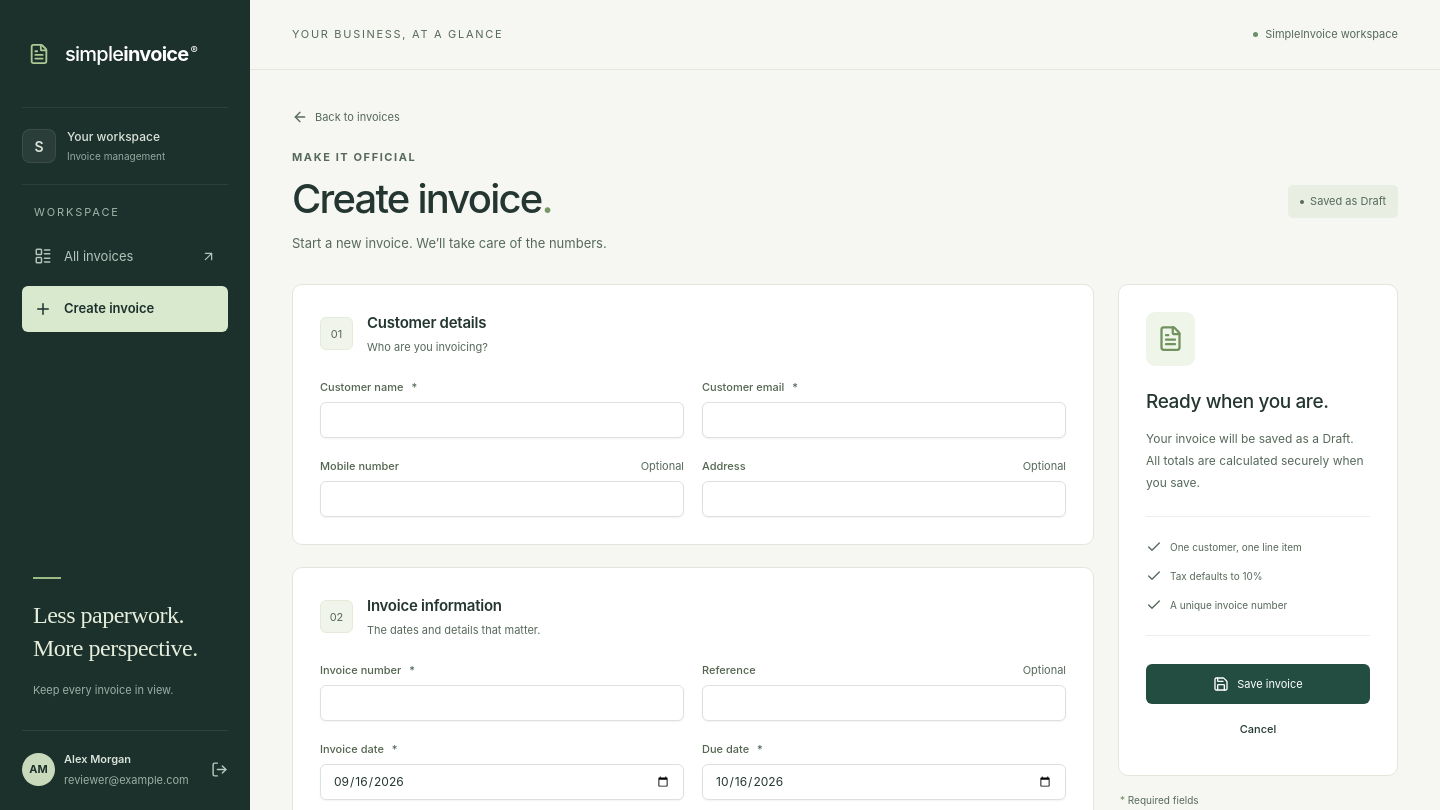
Test: Invoice creation and details › creates one item with numeric inputs and redirects on success
The width and height of the screenshot is (1440, 810).
Expected: the heading "Create invoice." is shown, [292,174,552,223]
Type "New Customer" into the field labelled "Customer name *". click: (502, 420)
box: [320,402,684,438]
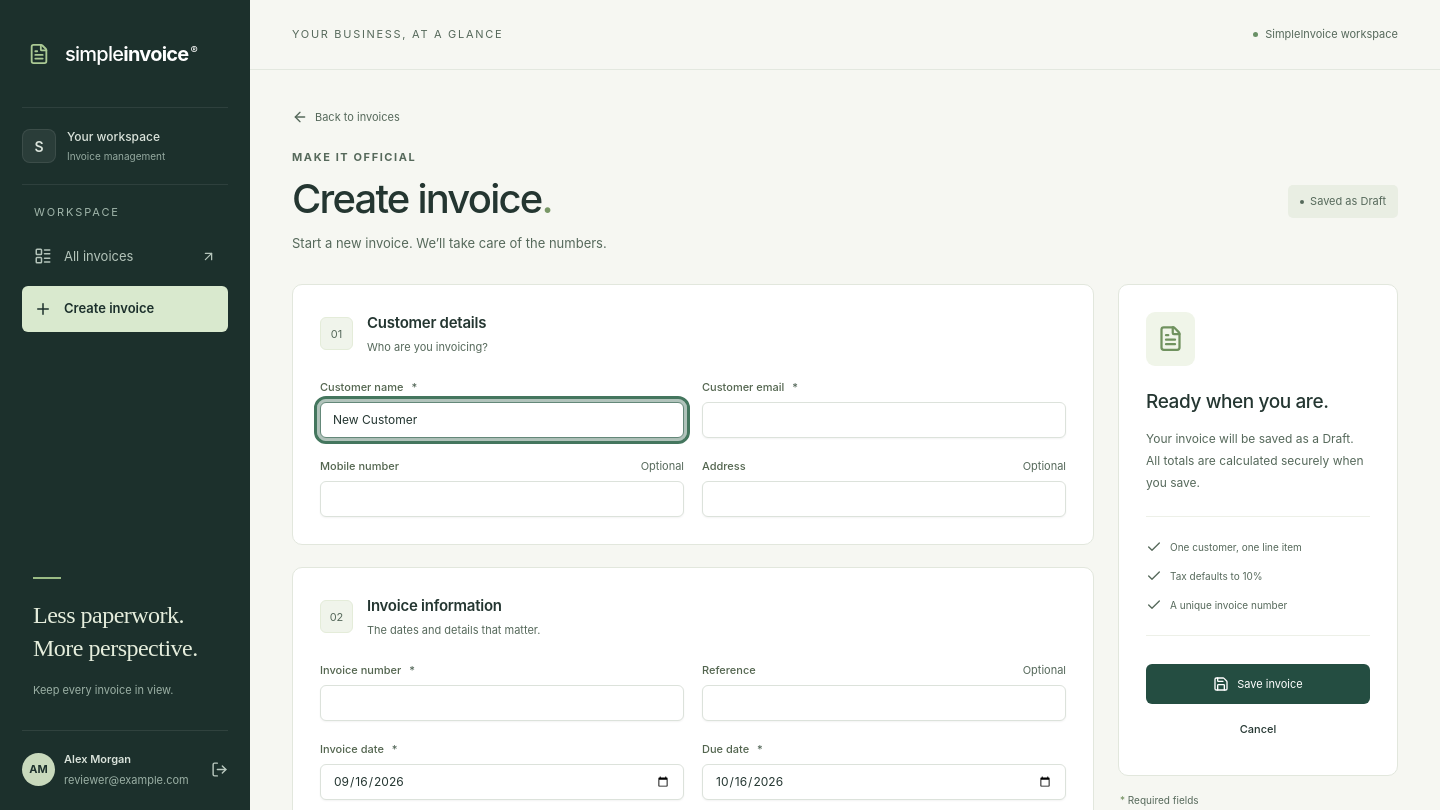
Type "new@example.com" into the field labelled "Customer email *". click: (884, 420)
box: [702,402,1066,438]
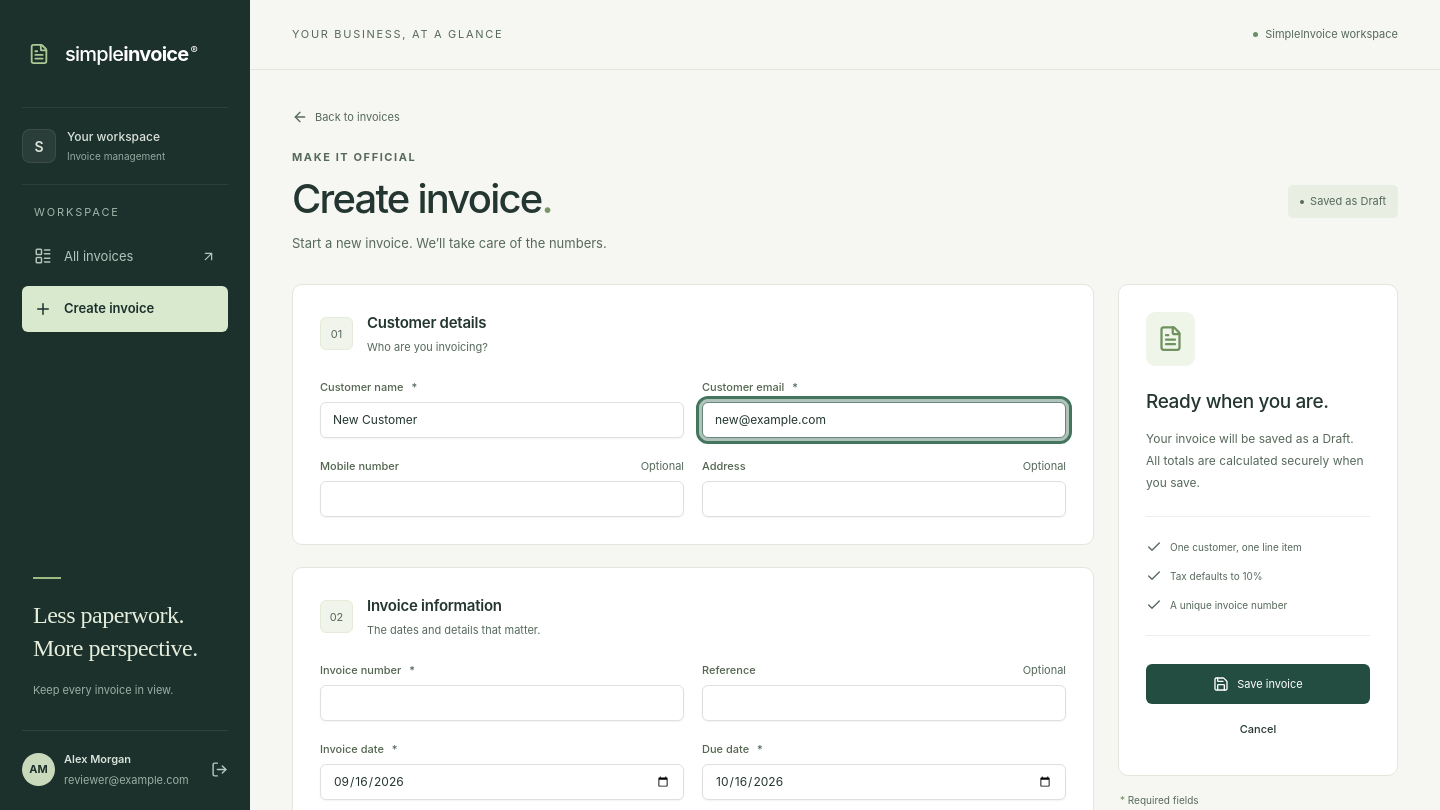
Type "NEW-001" into the field labelled "Invoice number *". click: (502, 703)
box: [320,685,684,721]
(page scrolled)
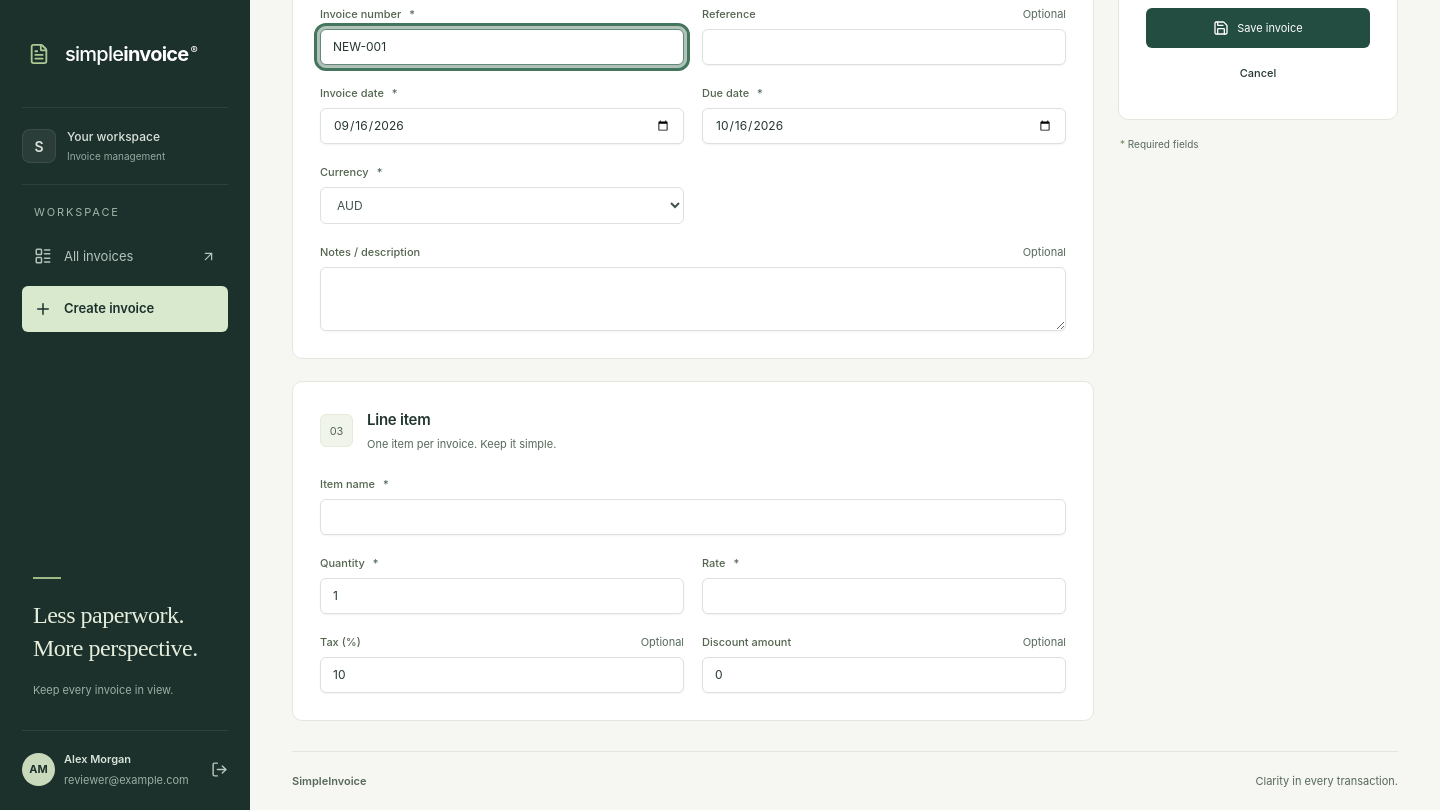
Type "Consulting" into the field labelled "Item name *". click: (693, 517)
box: [320,499,1066,535]
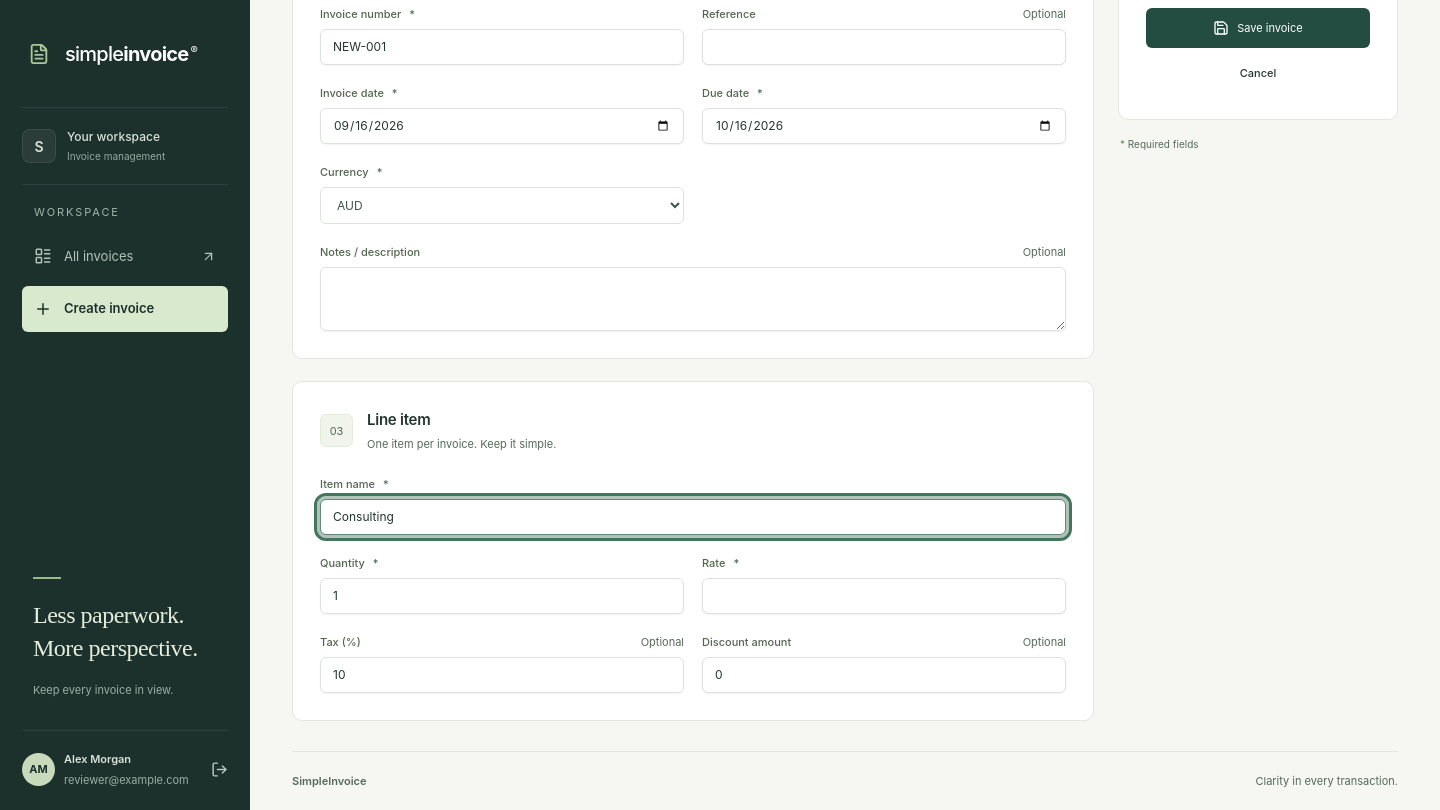
Type "100.25" into the number field labelled "Rate *". click: (884, 596)
box: [702,578,1066,614]
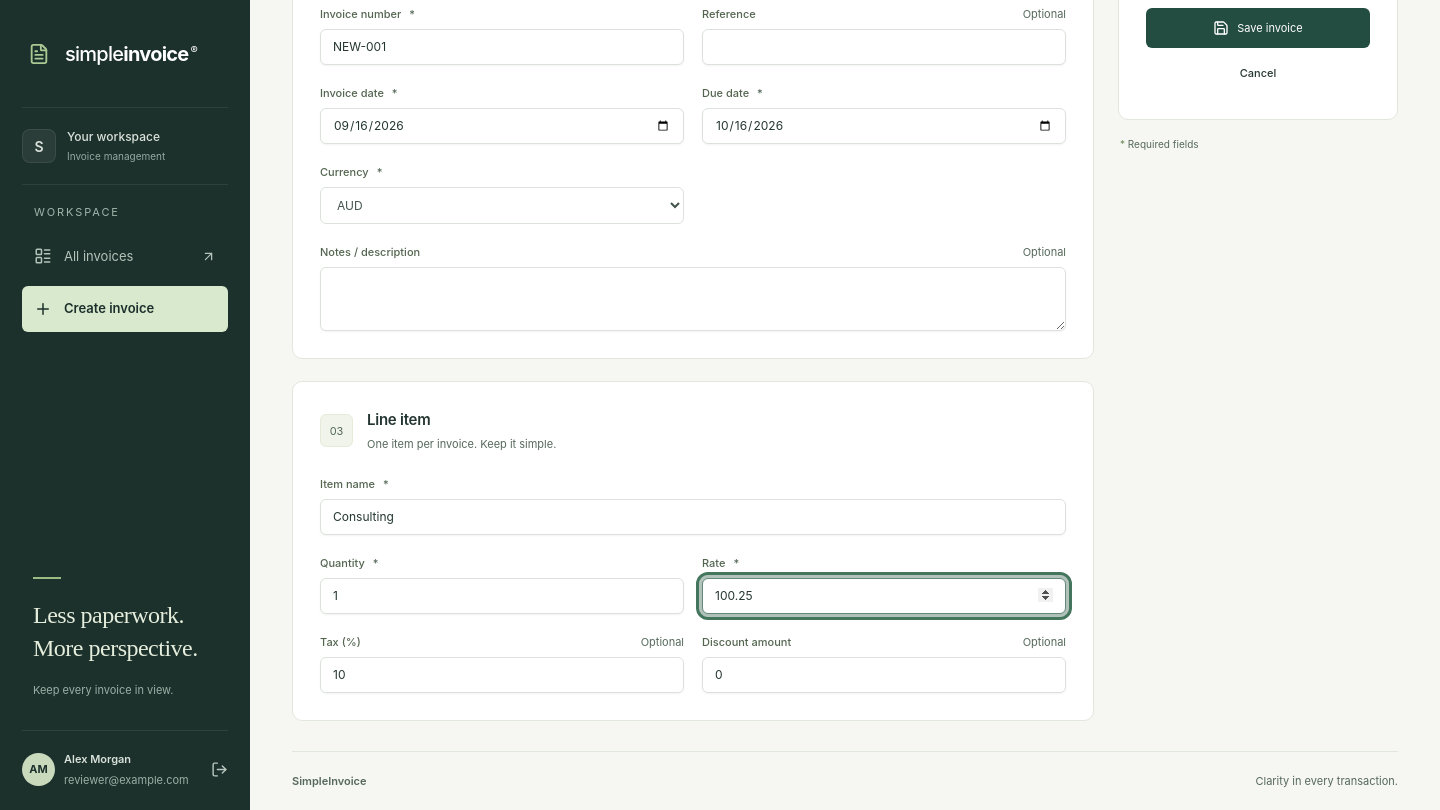
Click the button "Save invoice". click: (1258, 28)
box: [1146,8,1370,48]
(page scrolled)
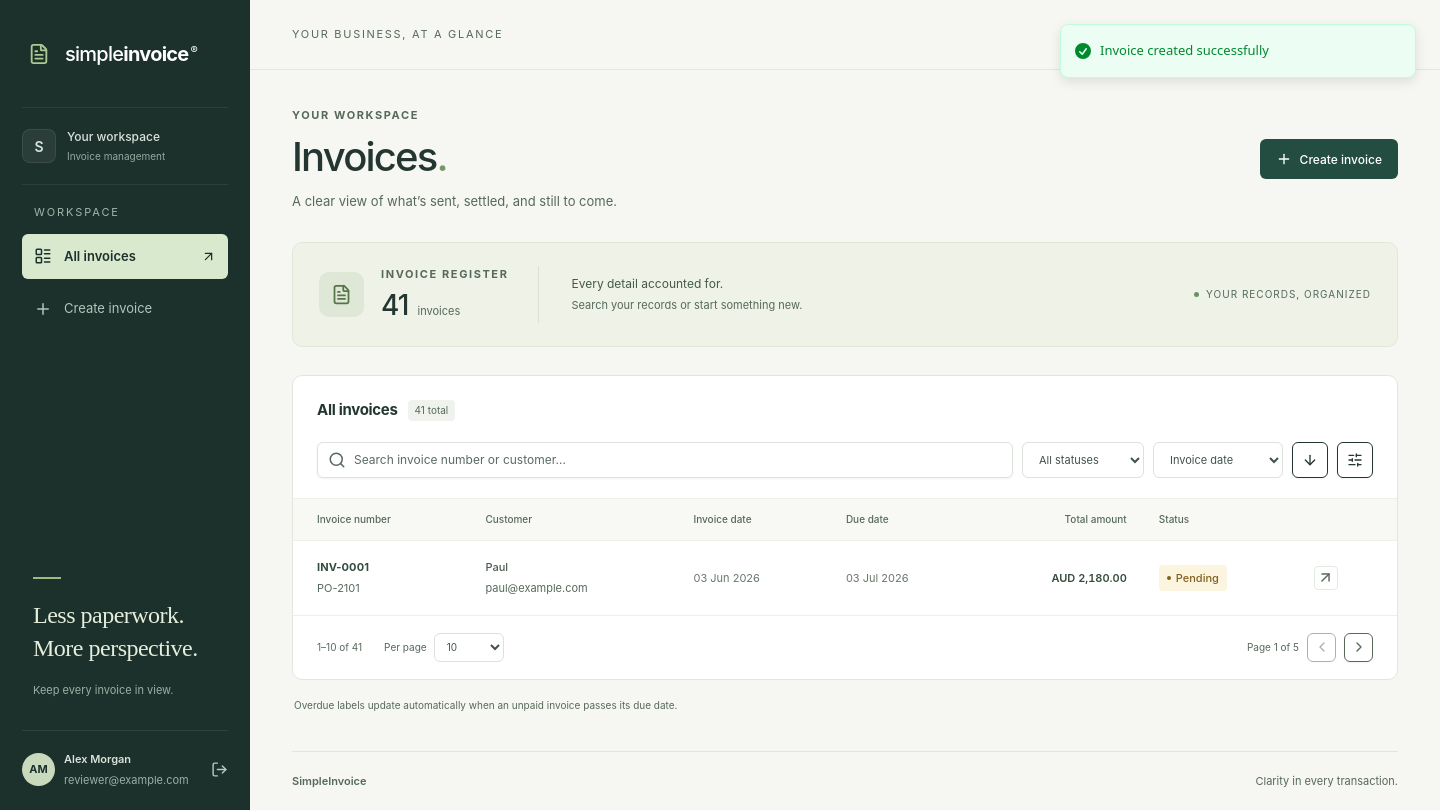
Expected: the heading "Invoices." is shown, [292,132,447,180]
